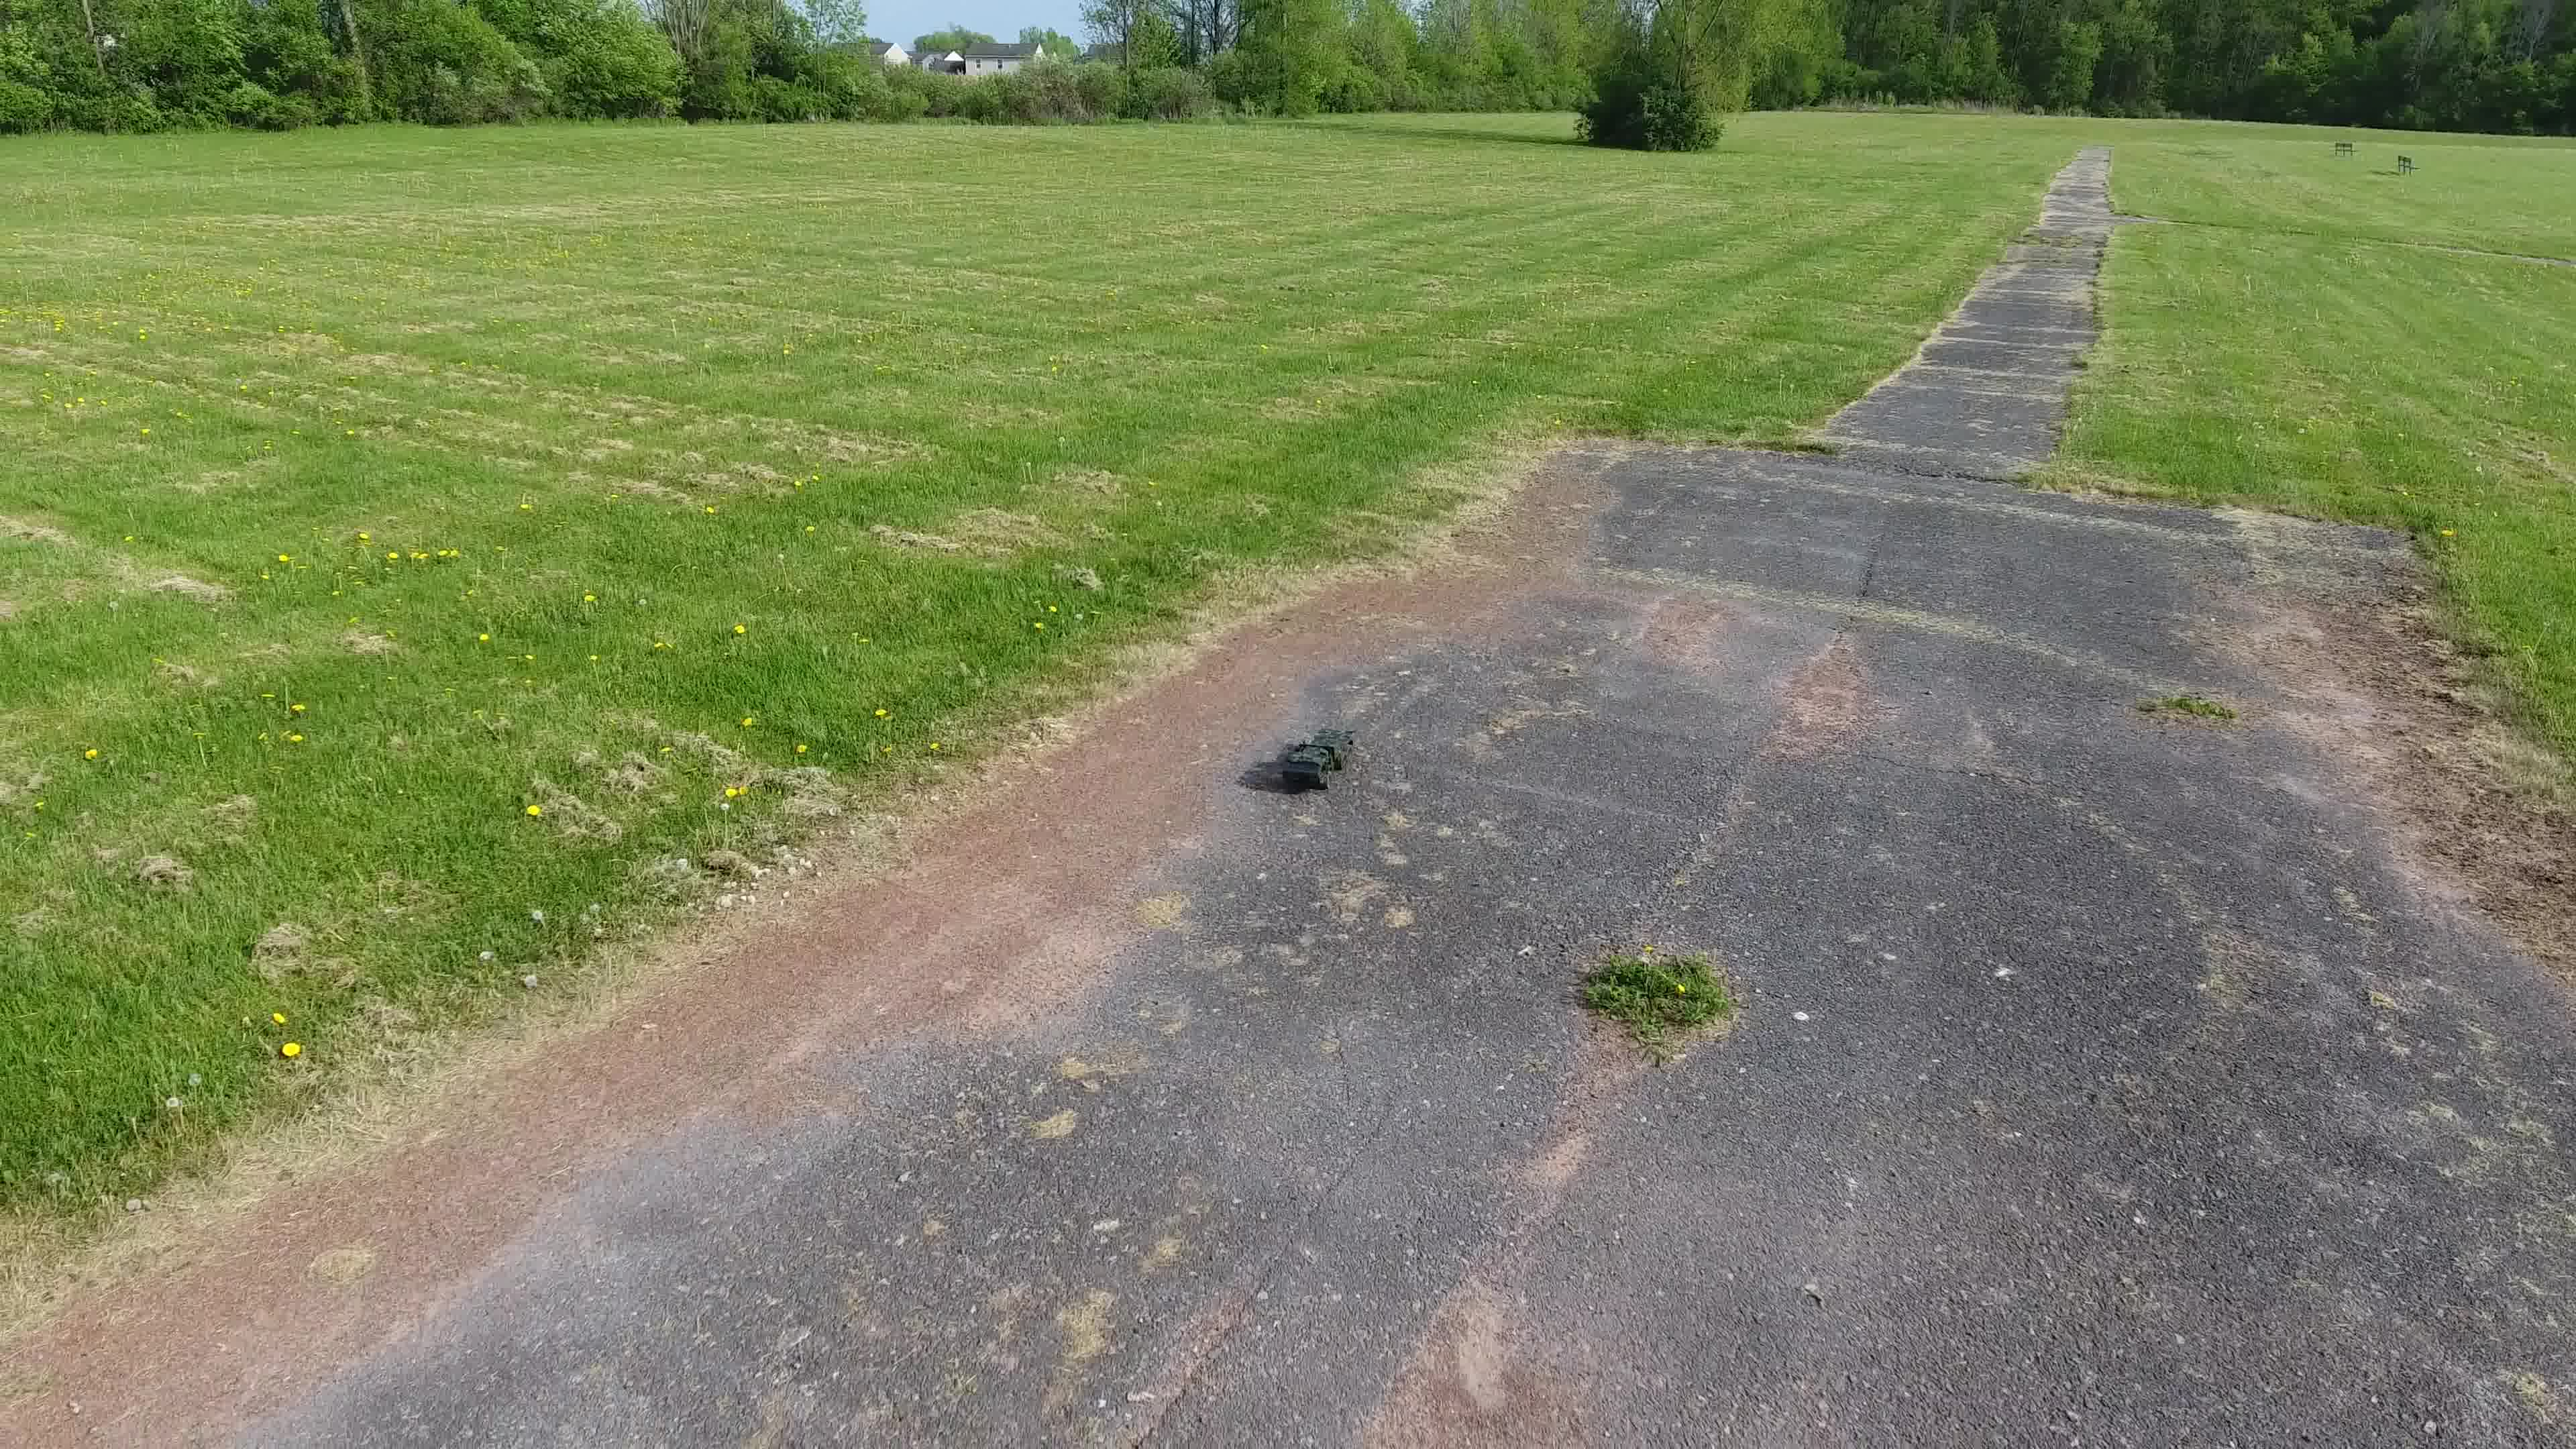transporter9_camo: (1277, 725, 1359, 791)
